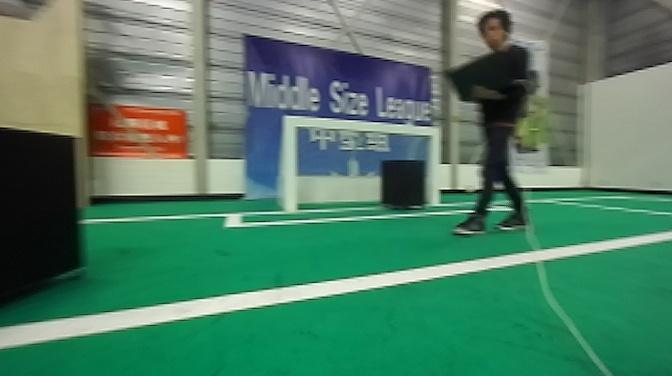goalpost: (426, 125, 449, 210), (282, 111, 300, 216)
human: (451, 9, 544, 253)
